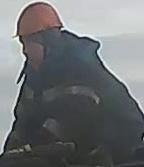helmet: (12, 2, 65, 39)
vest: (22, 39, 140, 147)
